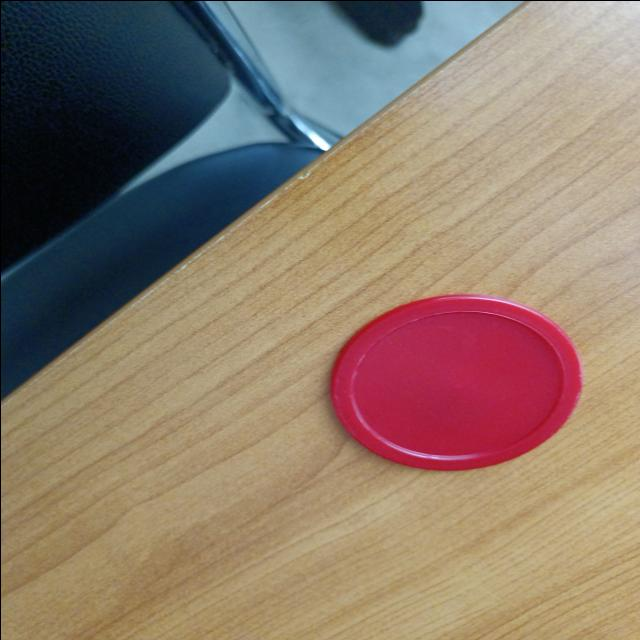chip: (326, 292, 582, 474)
